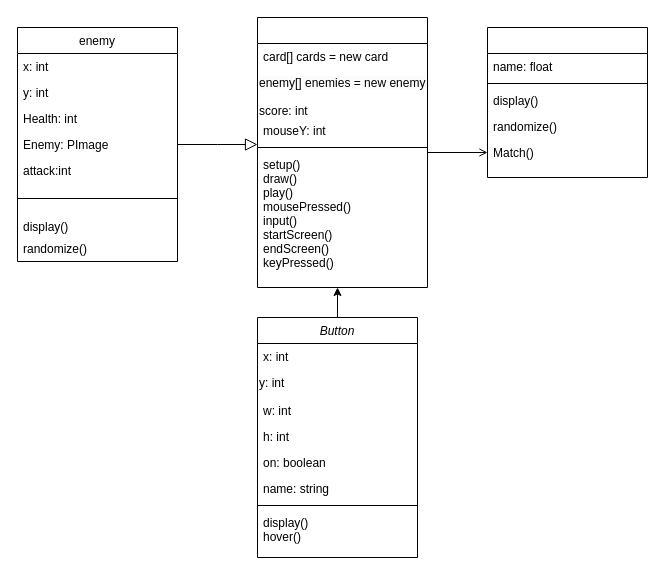
Image size: 665x578. Some labels were removed from this diagram. The box of each missing label's shape, as (x1, y1, x2, y2) in pixels:
Card: (486, 26, 648, 178)
StudyHero: (256, 16, 428, 288)
